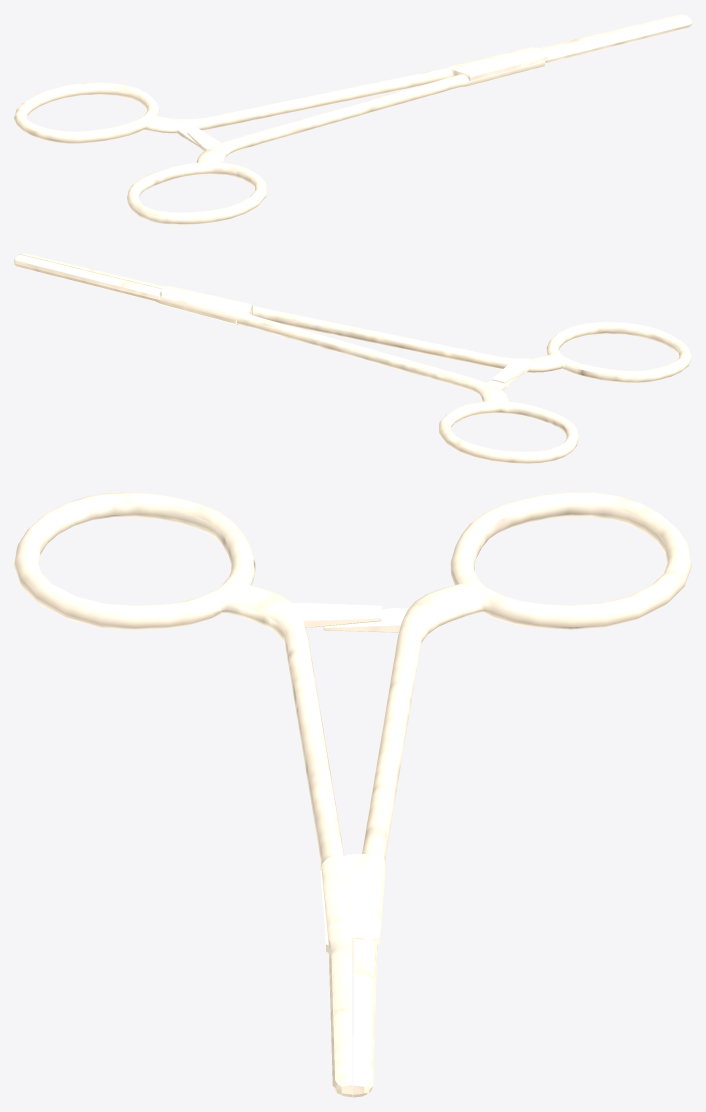
The model's file is SM_OPR_Forceps_01.fbx.
3 views of the same model, one above another, from view 1: azimuth 30°, elevation 25°; view 2: azimuth 150°, elevation 25°; view 3: azimuth 270°, elevation 25° (orthographic). The views are drawn at different scales.
Visible parts, largest first — view 1: SM_OPR_Forceps_01_LOD0; view 2: SM_OPR_Forceps_01_LOD0; view 3: SM_OPR_Forceps_01_LOD0.
Boxes of the visible parts, <box> form: SM_OPR_Forceps_01_LOD0: <box>14,14,691,224</box>; SM_OPR_Forceps_01_LOD0: <box>14,253,691,463</box>; SM_OPR_Forceps_01_LOD0: <box>14,492,691,1097</box>.
Bounding box in the file's own units: 16.11 × 7.82 × 0.2877.
1 material, 1 textured.
